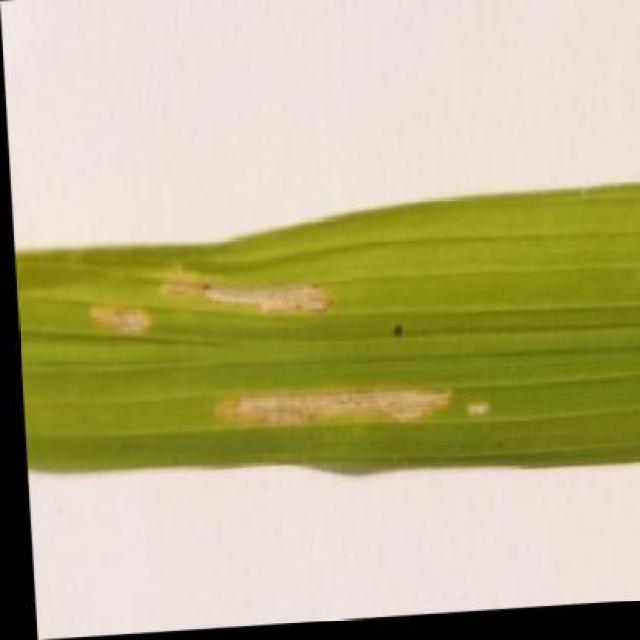Brown_Spot: (9, 184, 640, 508)
